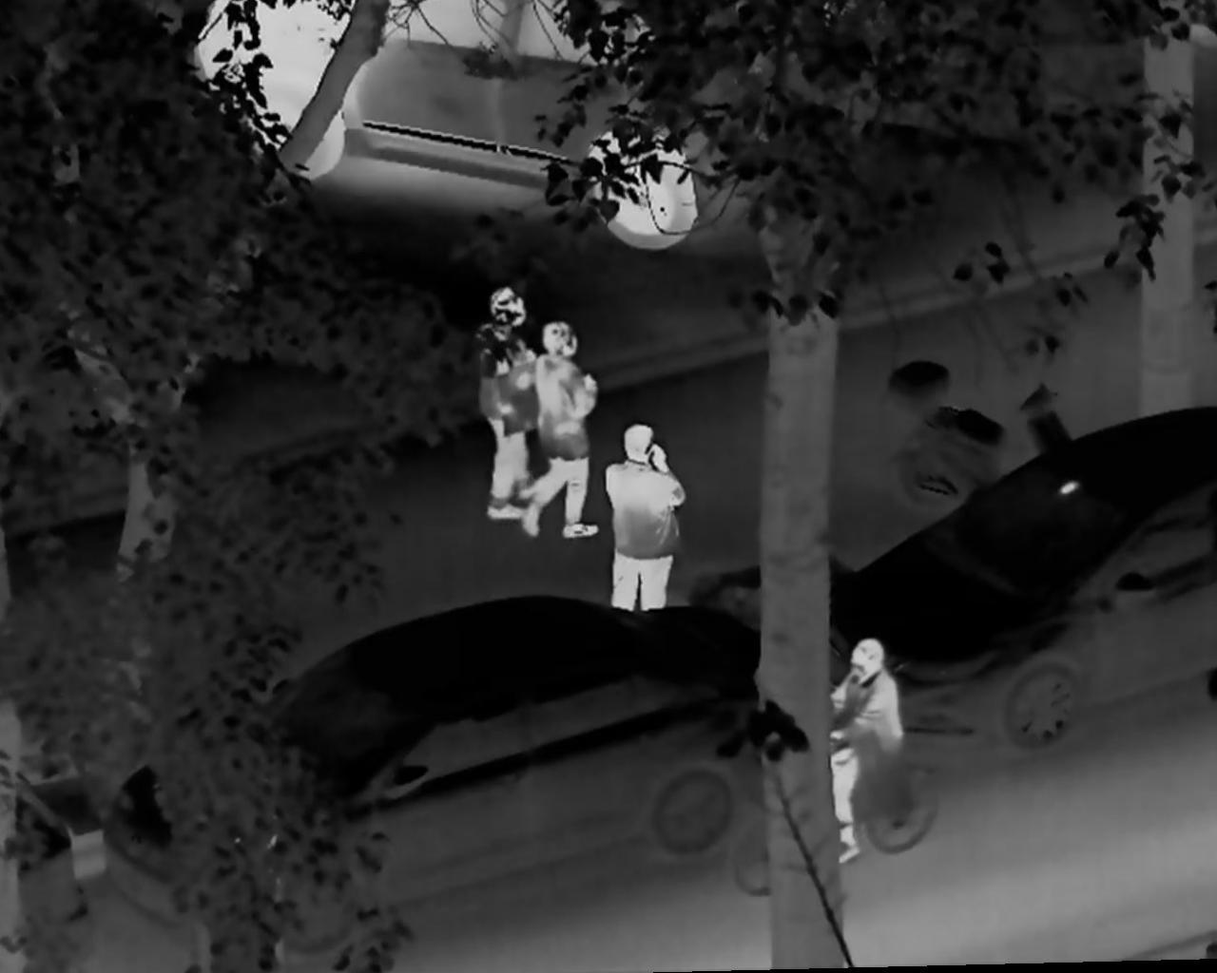person: (822, 637, 907, 867), (517, 316, 605, 538), (474, 285, 549, 525), (601, 423, 689, 622)
